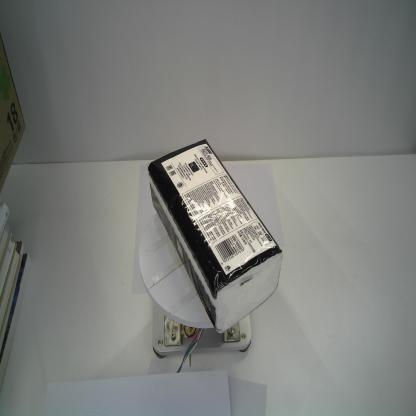Tissue: (147, 137, 283, 335)
